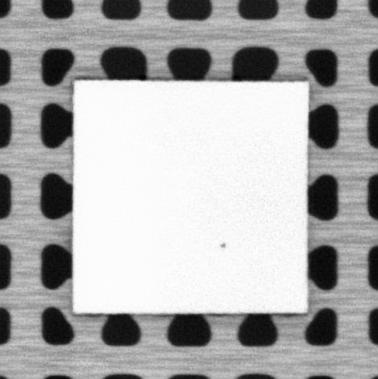DIE_INK: (217, 241, 226, 250)
